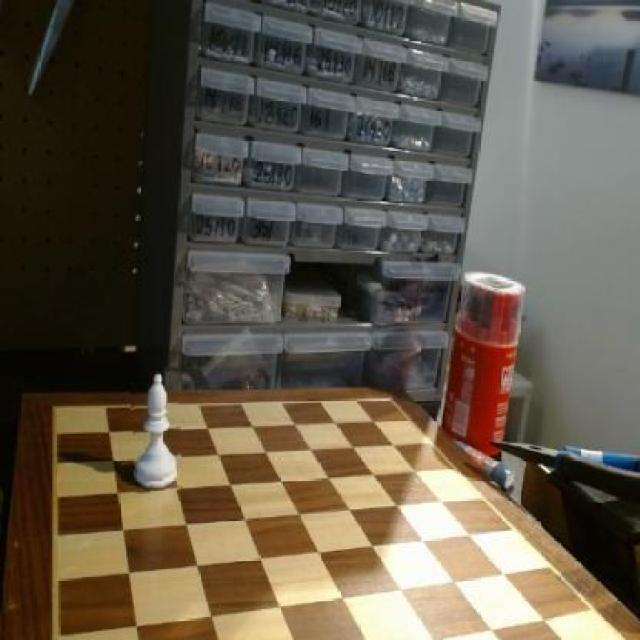black-rook: (131, 368, 181, 494)
